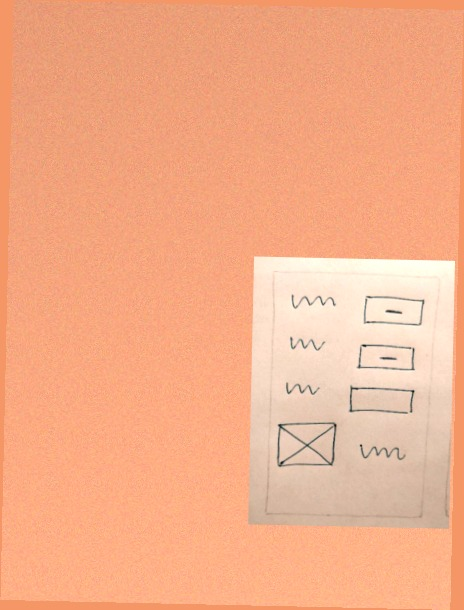button: (361, 291, 426, 330), (354, 337, 419, 376)
image: (273, 420, 338, 471)
text: (287, 288, 339, 313), (278, 374, 330, 399), (283, 330, 335, 355), (355, 440, 407, 465)
text_input: (346, 381, 416, 416)
